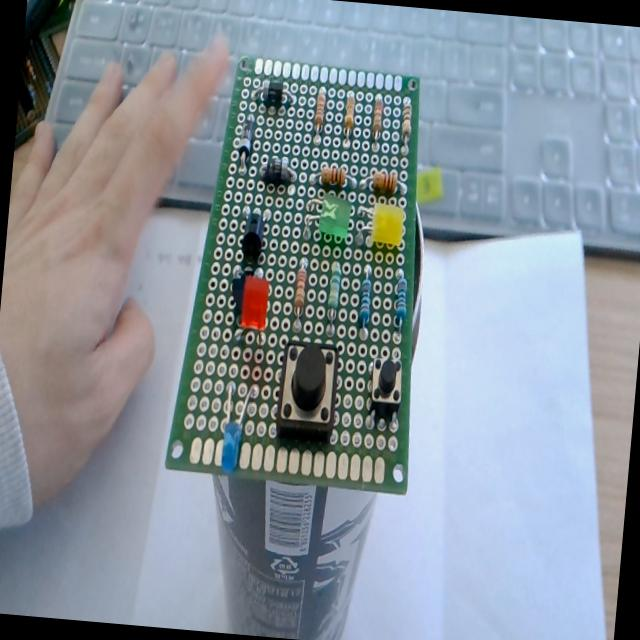diode: (250, 76, 295, 113), (258, 154, 298, 190), (236, 113, 256, 169)
led: (216, 376, 260, 476), (300, 180, 356, 246), (240, 272, 272, 330), (370, 201, 406, 249)
resistor: (324, 260, 342, 336), (310, 164, 356, 192), (356, 266, 374, 336), (361, 168, 404, 196), (291, 260, 308, 329), (391, 268, 410, 329), (341, 94, 356, 142), (399, 101, 414, 147), (313, 90, 326, 134), (371, 95, 384, 138)
switch: (274, 337, 341, 443), (364, 352, 406, 434)
transistor: (224, 264, 250, 326), (239, 208, 266, 265)
